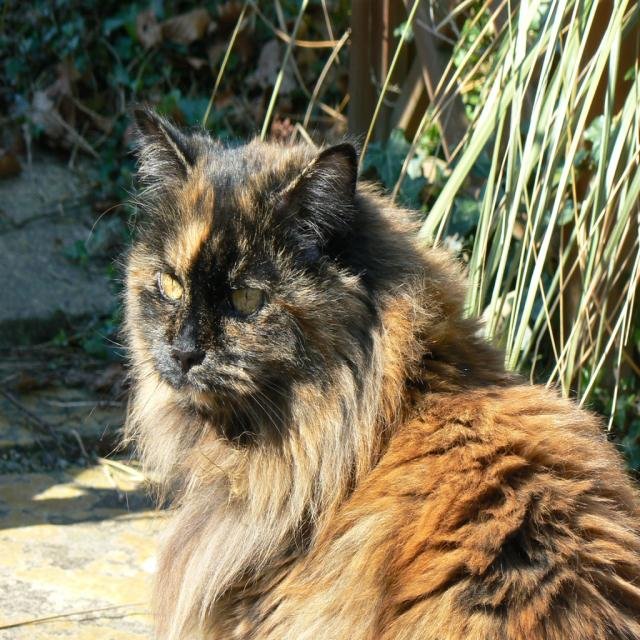Cat: (116, 107, 638, 638)
